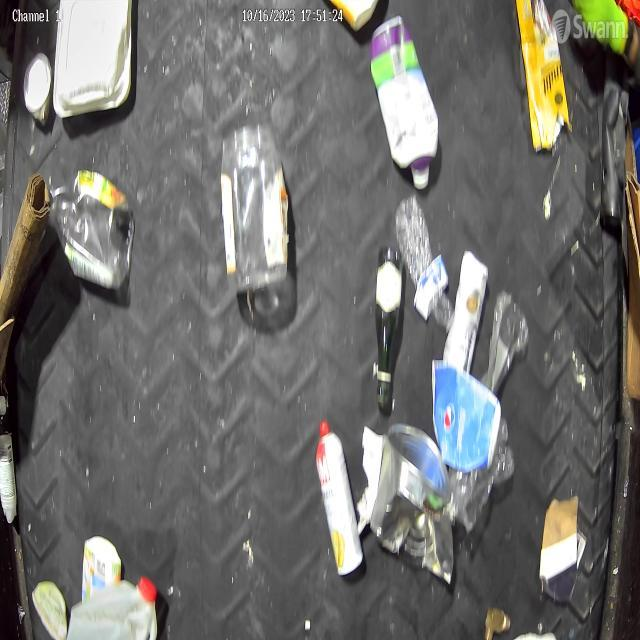can: (316, 418, 364, 576), (23, 51, 53, 128)
milk_jug: (64, 575, 158, 640)
non_white_jug: (370, 14, 440, 190)
plastic_bottle: (396, 194, 456, 332)
